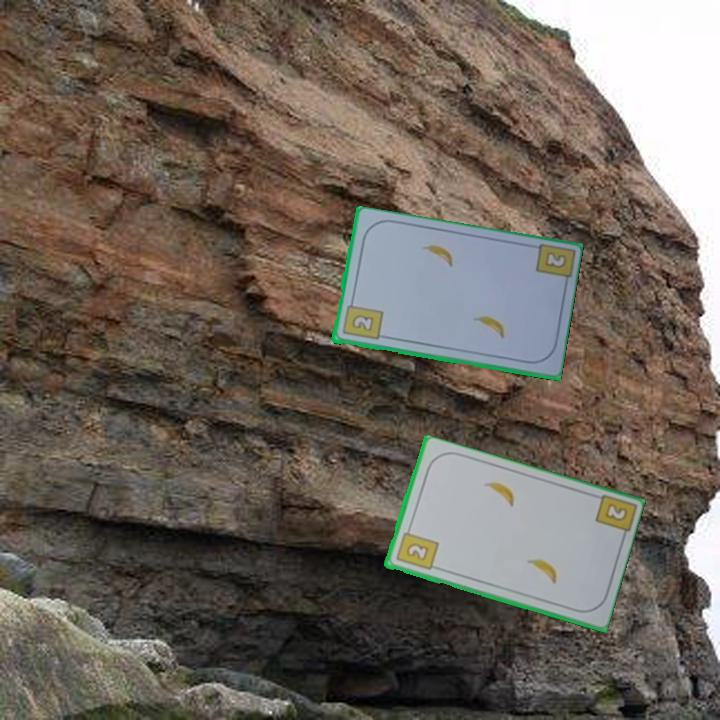2b: (392, 524, 440, 573), (339, 296, 385, 343), (601, 500, 630, 524), (543, 250, 567, 270)
